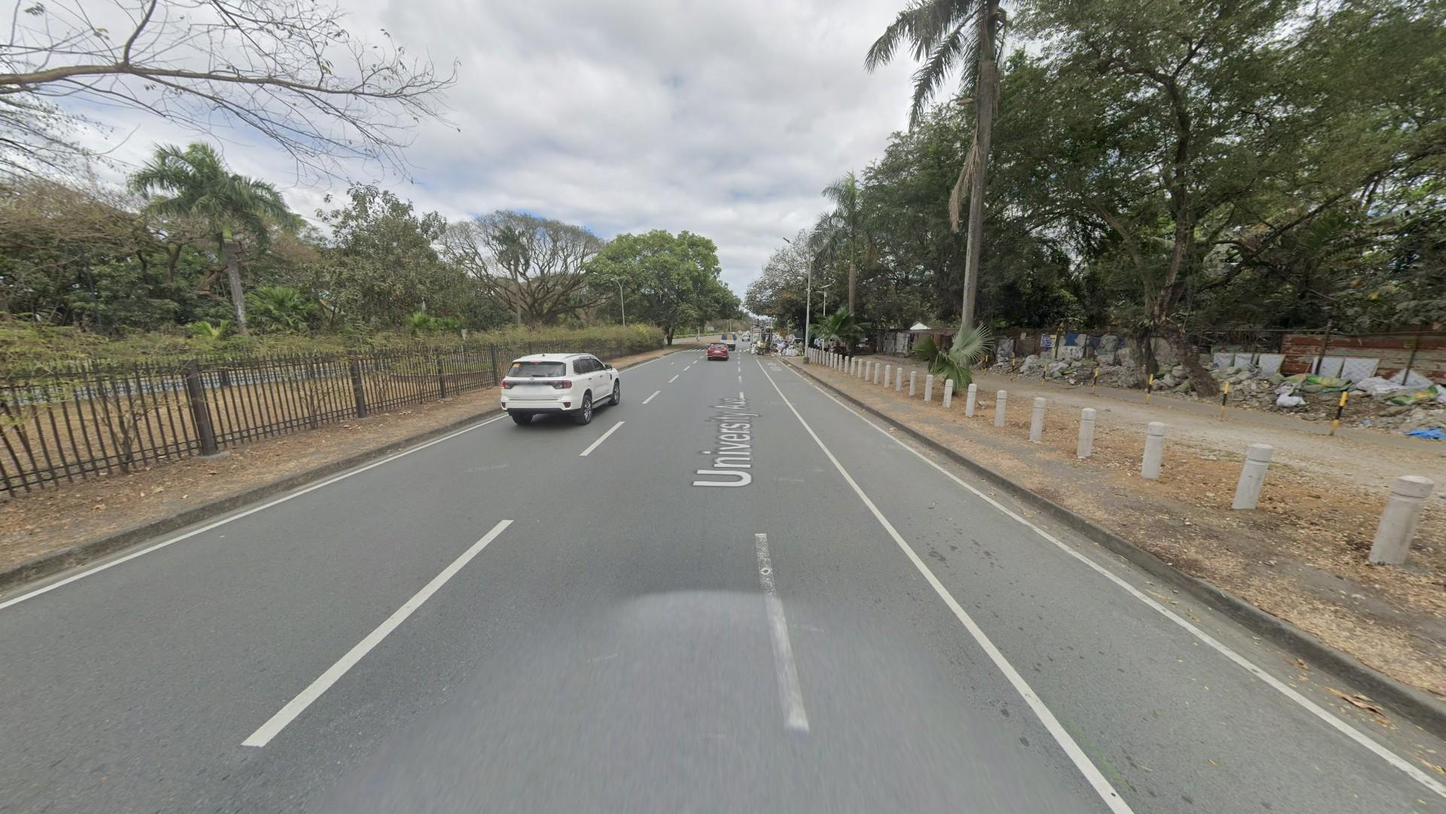pedestrian: (816, 337, 822, 355), (798, 339, 804, 356), (828, 345, 835, 359), (756, 317, 760, 329)
